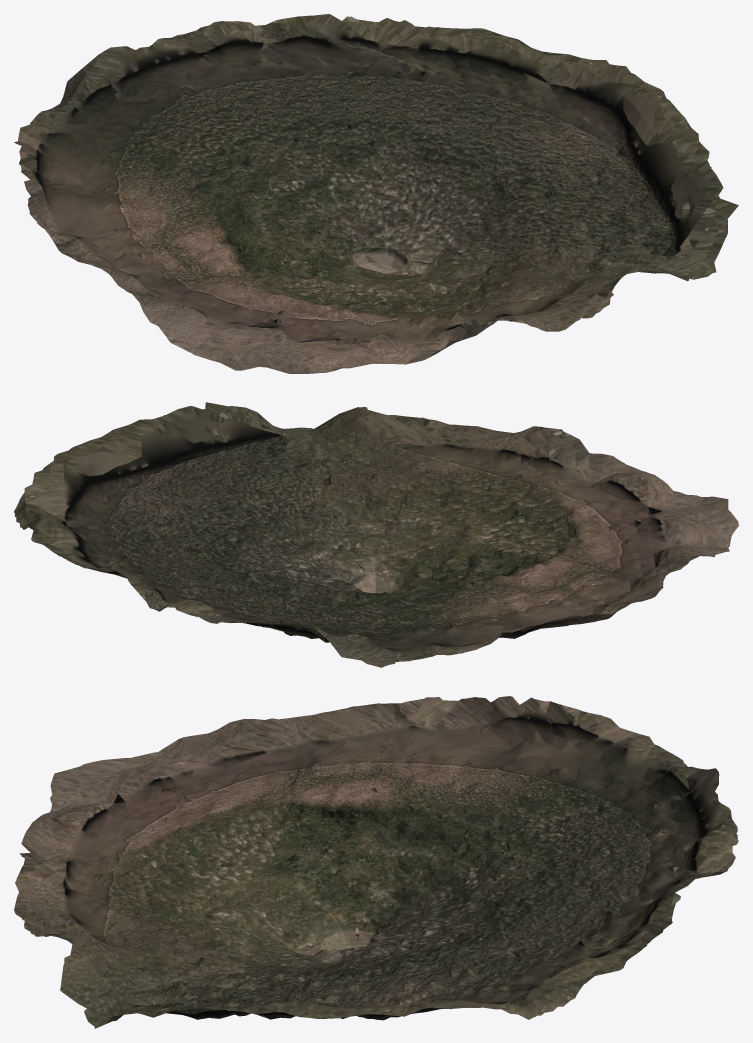
Rendered from pingoLoPoly.fbx.
3 renders of one model, top to bottom at view 1: azimuth 30°, elevation 25°; view 2: azimuth 150°, elevation 25°; view 3: azimuth 270°, elevation 25°, orthographic. The views are drawn at different scales.
Visible parts, largest first — view 1: Model; view 2: Model; view 3: Model.
Part boxes in pixels (box(x1,y1,x2,y2)): Model: box(14, 14, 738, 373); Model: box(14, 402, 738, 667); Model: box(14, 696, 738, 1028).
Bounding box in the file's own units: 61.46 × 12.24 × 59.08.
